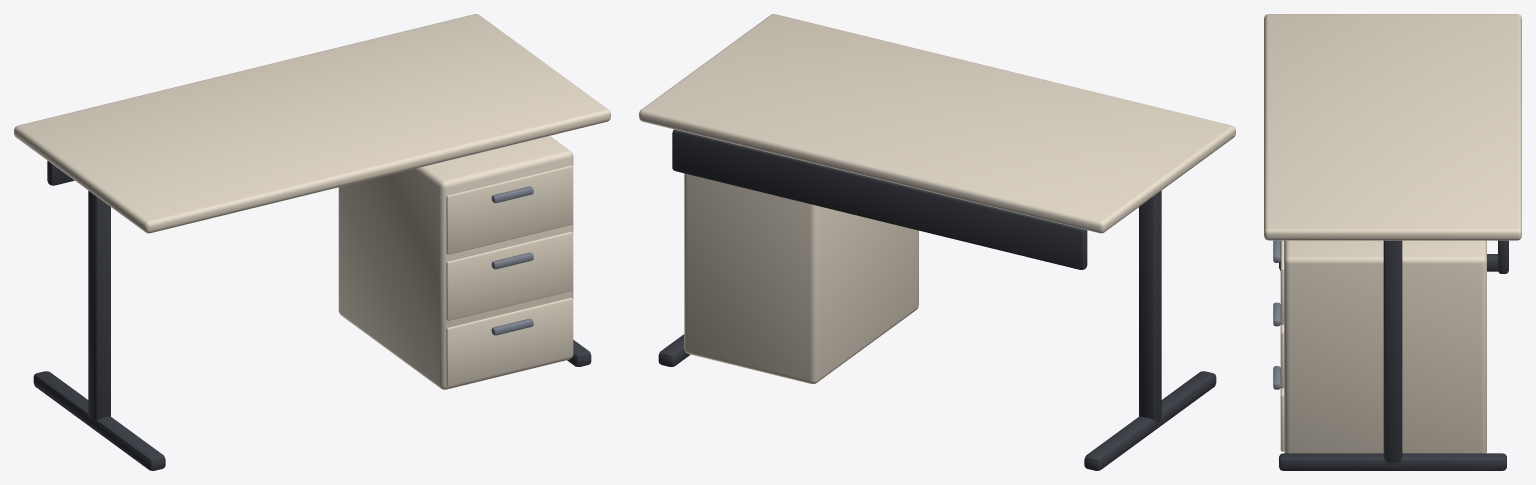
Rendered from mesa_escritorio.glb.
The picture shows the model from 3 angles, left to right: view 1: azimuth 30°, elevation 25°; view 2: azimuth 150°, elevation 25°; view 3: azimuth 270°, elevation 25°; orthographic projection. The views are drawn at different scales.
Parts seen in each view (by area): view 1: Cube, Cube.006, Cube.011, Cube.009, Cube.007, Cube.002, Cube.001; view 2: Cube, Cube.006, Cube.005, Cube.002, Cube.001, Cube.003; view 3: Cube, Cube.006, Cube.004, Cube.003, Cube.011, Cube.005, Cube.007, Cube.009.
Part boxes in pixels (<box>): Cube: <box>14,14,610,233</box>; Cube.006: <box>338,136,573,389</box>; Cube.011: <box>446,165,573,254</box>; Cube.009: <box>446,231,573,320</box>; Cube.007: <box>446,297,573,386</box>; Cube.002: <box>88,191,110,421</box>; Cube.001: <box>33,371,165,470</box>; Cube: <box>639,14,1235,233</box>; Cube.006: <box>684,173,918,383</box>; Cube.005: <box>672,129,1087,269</box>; Cube.002: <box>1139,191,1161,423</box>; Cube.001: <box>1084,371,1216,470</box>; Cube.003: <box>658,334,690,366</box>; Cube: <box>1264,14,1521,240</box>; Cube.006: <box>1284,240,1486,453</box>; Cube.004: <box>1383,240,1402,464</box>; Cube.003: <box>1279,453,1506,470</box>; Cube.011: <box>1280,240,1284,324</box>; Cube.005: <box>1498,240,1508,273</box>; Cube.007: <box>1280,387,1284,451</box>; Cube.009: <box>1280,324,1284,388</box>.
Size of the model in its own units: 1.4 by 0.7425 by 0.7.
